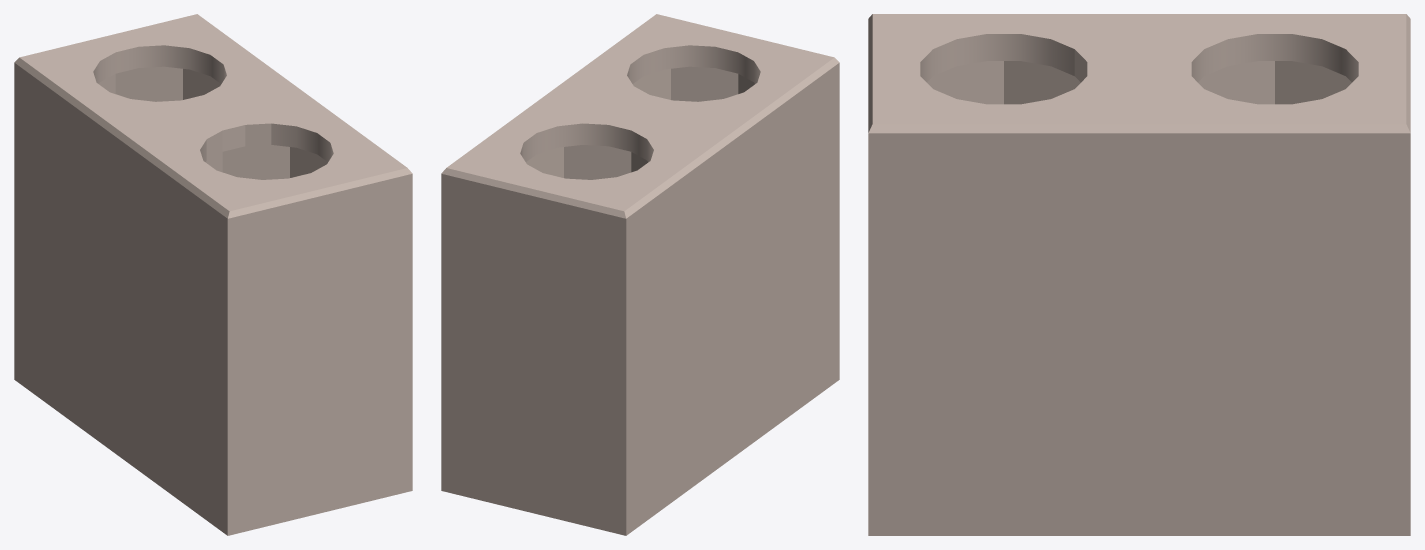
Rendered from GG_Level1_Asset_TrashCan.fbx.
3 views of the same model, side by side, from view 1: azimuth 30°, elevation 25°; view 2: azimuth 150°, elevation 25°; view 3: azimuth 270°, elevation 25° (orthographic). The views are drawn at different scales.
Parts seen in each view (by area): view 1: TrashCan; view 2: TrashCan; view 3: TrashCan.
Boxes of the visible parts, x1=… form: TrashCan: x1=14, y1=14, x2=412, y2=535; TrashCan: x1=441, y1=14, x2=839, y2=535; TrashCan: x1=868, y1=14, x2=1410, y2=535.
Bounding box in the file's own units: 60 × 100 × 120.
